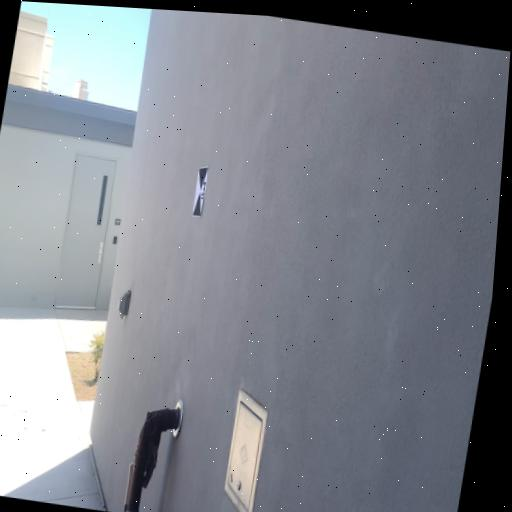target3: (192, 166, 210, 217)
